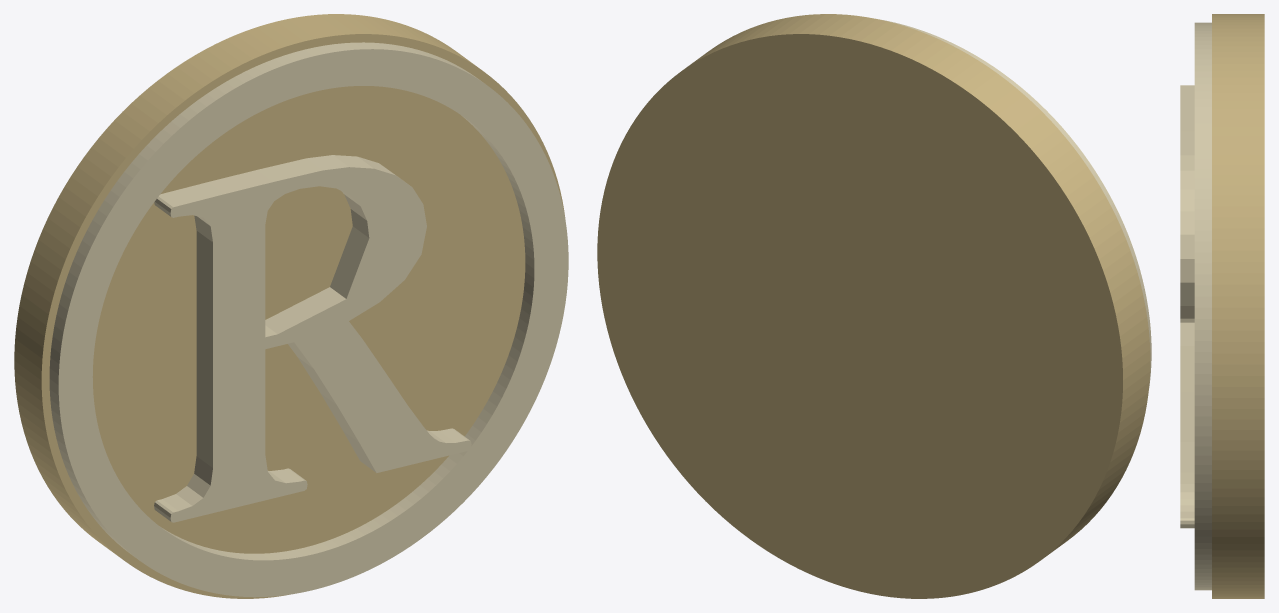
The model's file is medal-redesign.glb.
The picture shows the model from 3 angles, left to right: view 1: azimuth 30°, elevation 25°; view 2: azimuth 150°, elevation 25°; view 3: azimuth 270°, elevation 25°; orthographic projection. The views are drawn at different scales.
Visible parts, largest first — view 1: world; view 2: world; view 3: world.
Part boxes in pixels (bbox=[...]): world: bbox=[14, 14, 568, 598]; world: bbox=[597, 14, 1151, 598]; world: bbox=[1180, 14, 1264, 598].
Size of the model in its own units: 2 by 2 by 0.2889.
